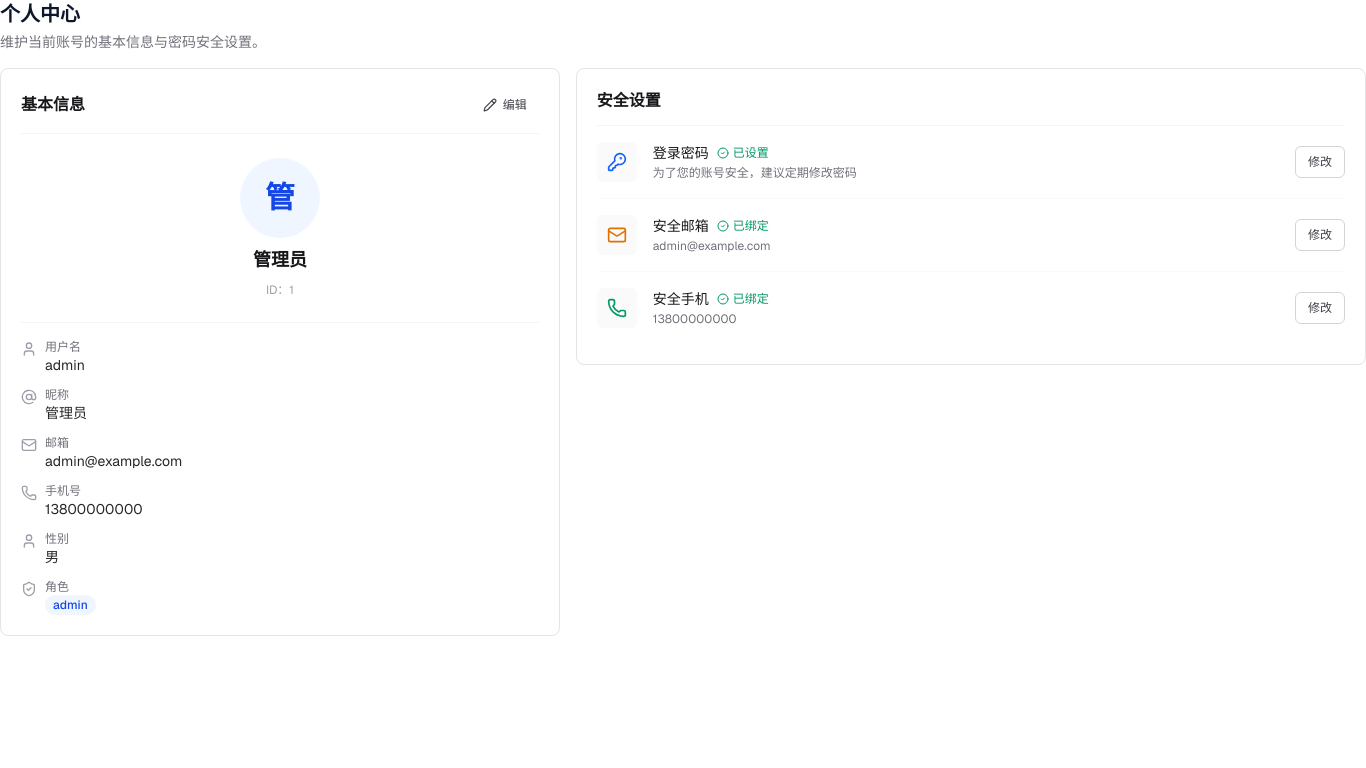
Test: ProfilePage › 点击编辑按钮后打开基本信息 Modal 并提交修改
The image size is (1366, 768).
Step 1. Click the button "编辑" → (505, 105), box [471,89,539,121]
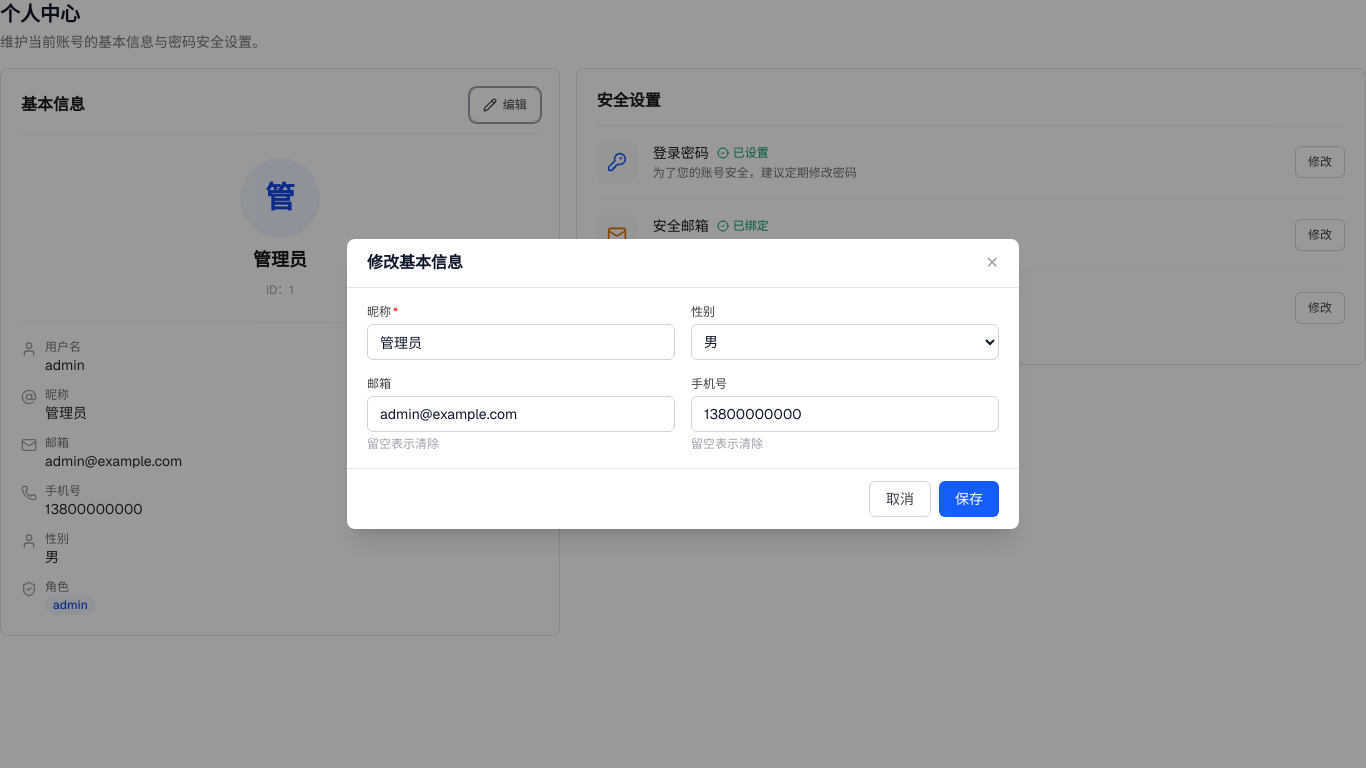
expect the heading "修改基本信息" is shown: met, box [367,251,463,275]
Step 2. Replace the text in the 1st field showing "管理员" with "新昵称" → (521, 342), box [367,324,675,360]
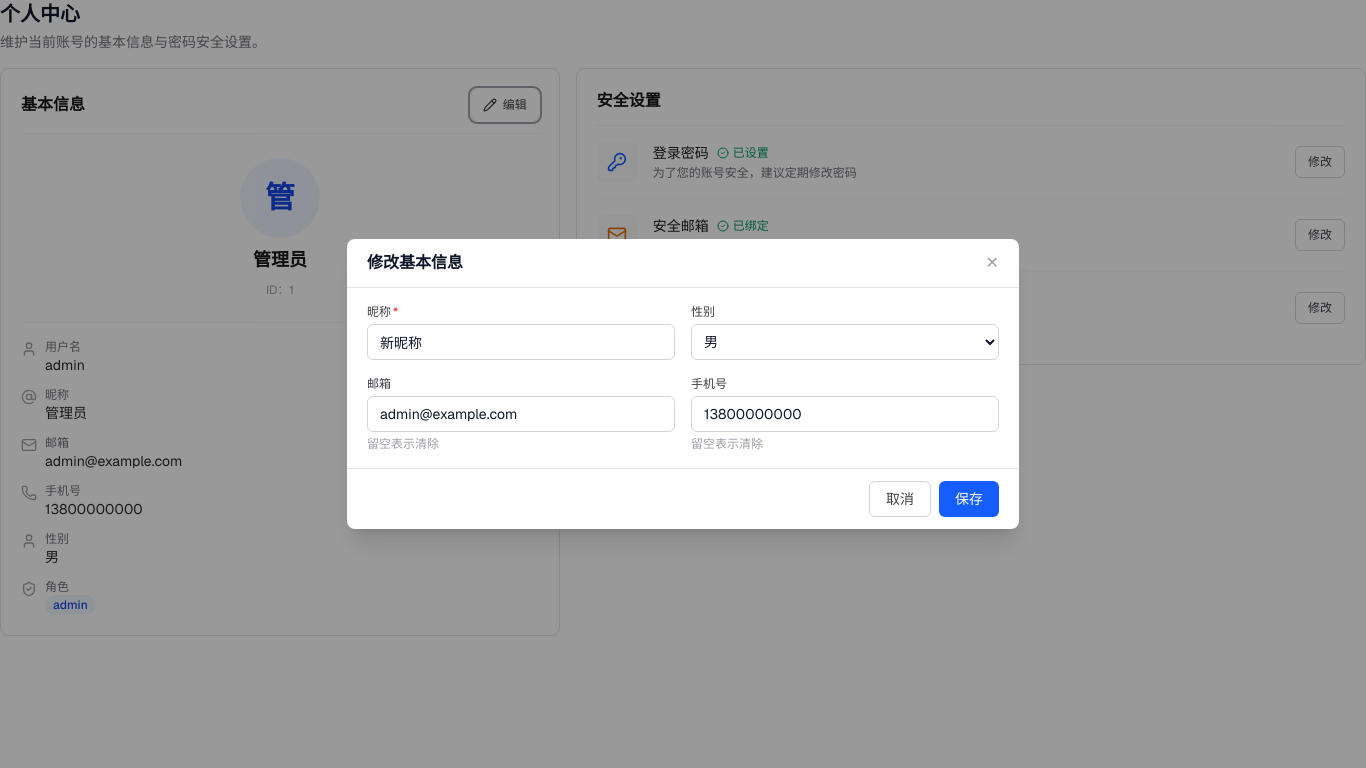
Step 3. Click the button "保存" → (969, 499), box [939,481,999,517]
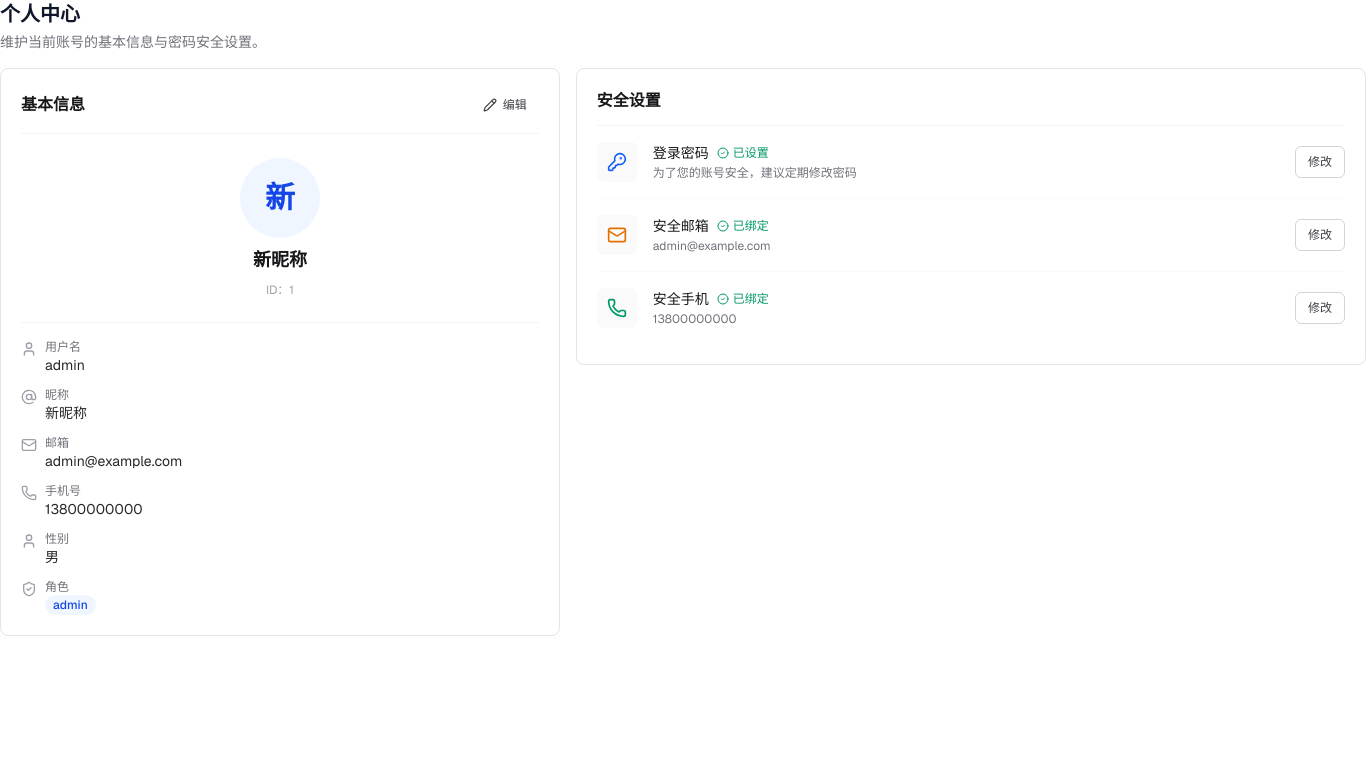
expect the 1st text "新昵称" is shown: met, box [253,246,307,274]
